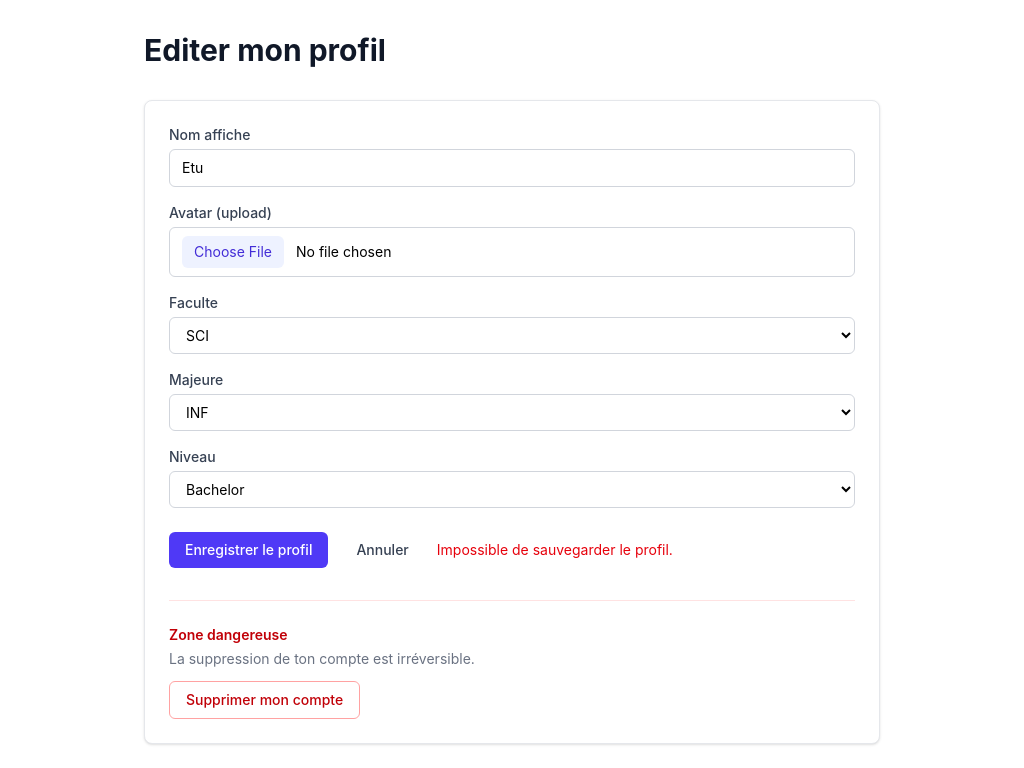
Test: EditProfilePage › delete modal shows error message when deleteAccountMutation has failed
Click the button "Supprimer mon compte".
click(265, 700)  # box x1=169 y1=681 x2=360 y2=719
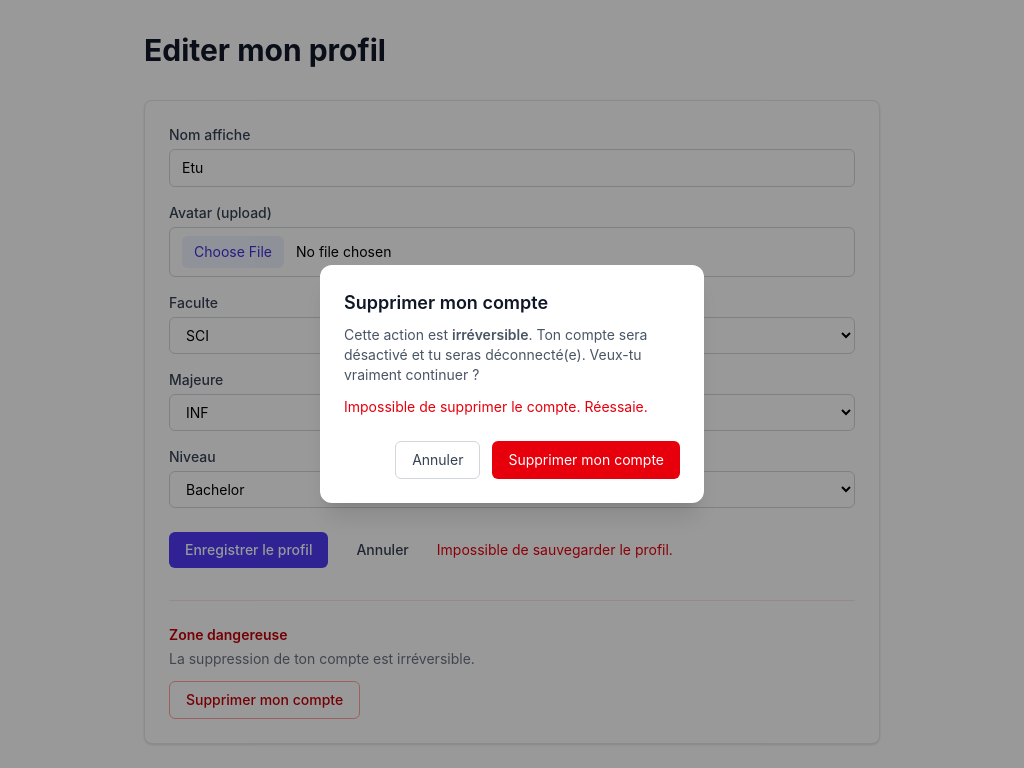
Expected: the text "Impossible de supprimer le compte. Réessaie." is shown, x1=344 y1=397 x2=680 y2=417
